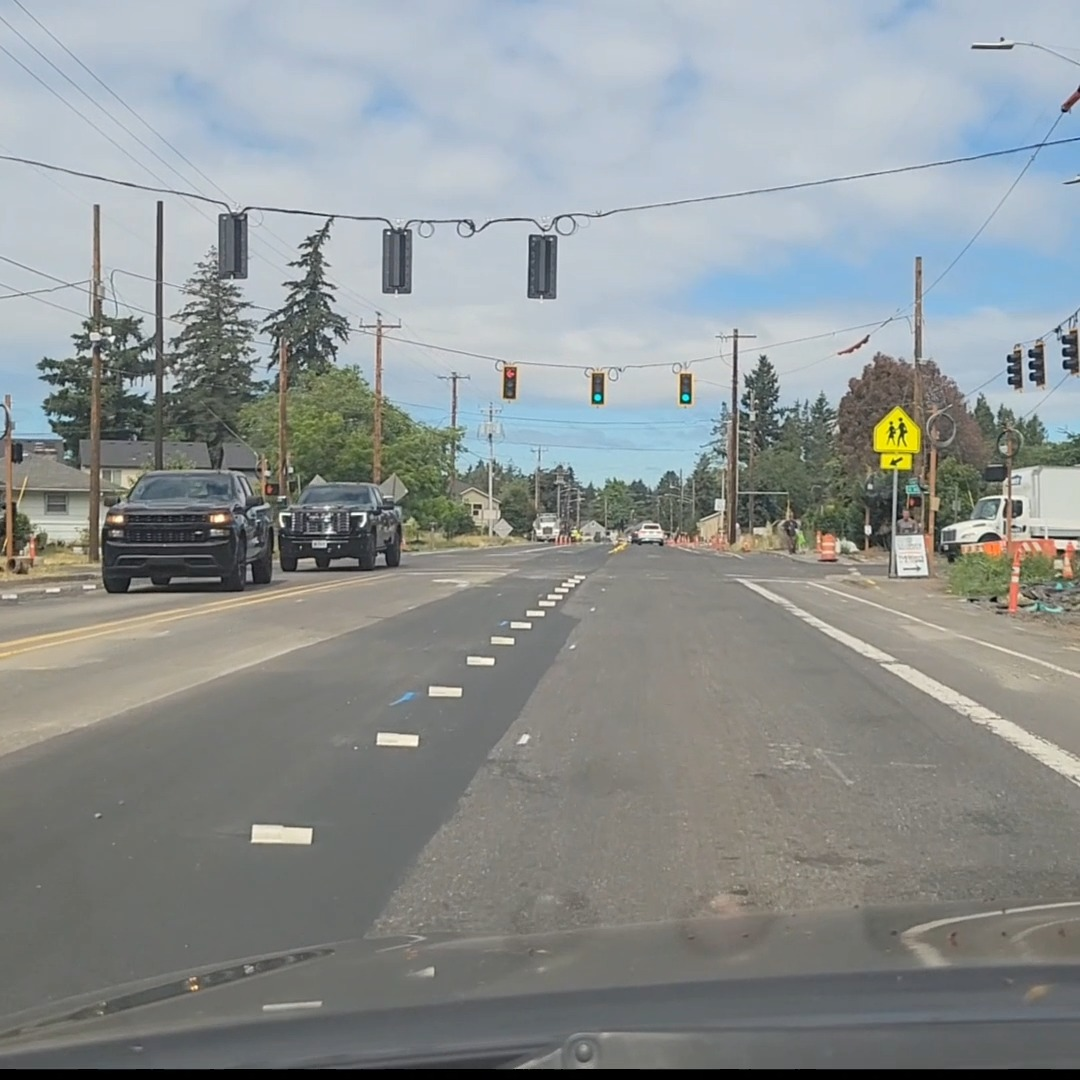car: (97, 470, 275, 593), (276, 483, 406, 573), (630, 522, 666, 545)
crosswalk-sign: (872, 405, 922, 455)
delineator: (1007, 551, 1021, 613), (27, 535, 36, 566)
